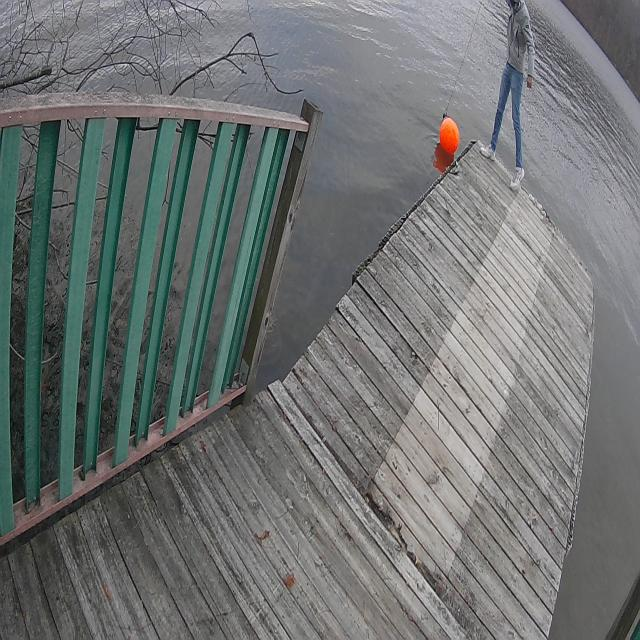Buoy: (434, 102, 462, 162)
